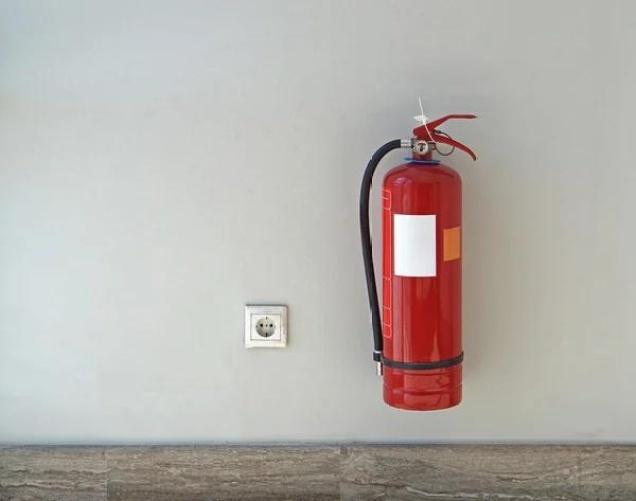APAR: (380, 113, 477, 410)
